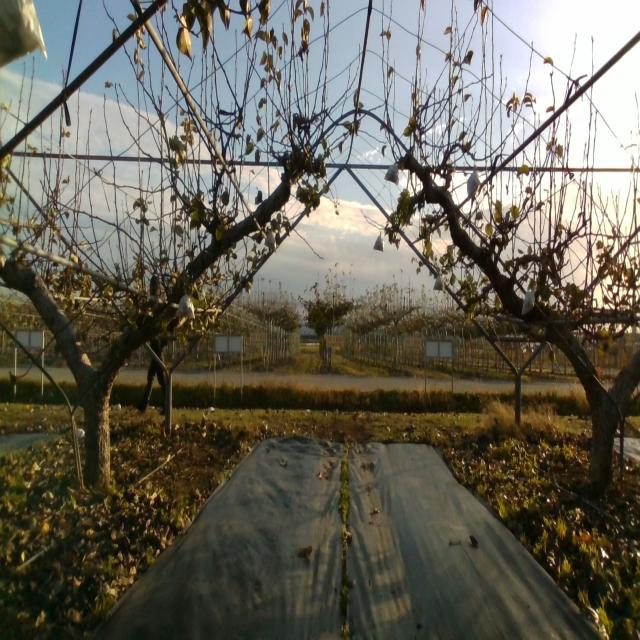pearbags: (177, 289, 196, 323), (466, 170, 480, 198), (521, 290, 535, 316), (384, 163, 399, 185), (432, 273, 446, 292), (264, 230, 276, 252), (372, 232, 383, 252)
